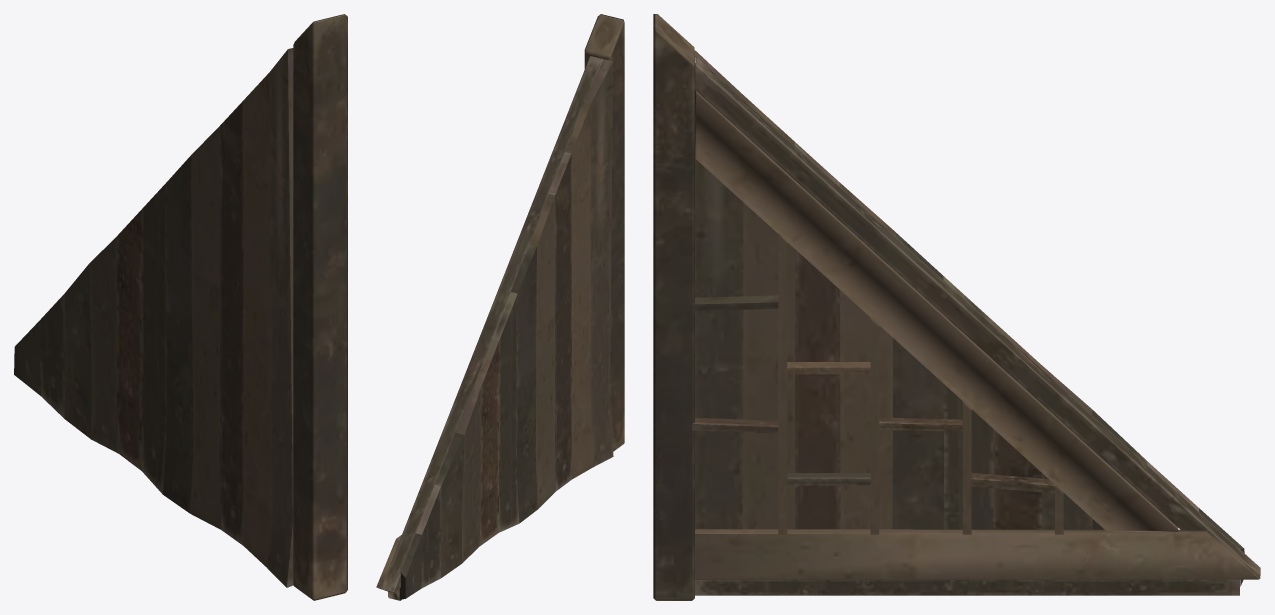
The model's file is wall.frontier.right.glb.
3 renders of one model, left to right at view 1: azimuth 30°, elevation 25°; view 2: azimuth 150°, elevation 25°; view 3: azimuth 270°, elevation 25°, orthographic. The views are drawn at different scales.
Parts seen in each view (by area): view 1: roof.wall.right_LOD0; view 2: roof.wall.right_LOD0; view 3: roof.wall.right_LOD0.
Part boxes in pixels (bbox=[...]): roof.wall.right_LOD0: bbox=[14, 14, 347, 600]; roof.wall.right_LOD0: bbox=[376, 14, 624, 600]; roof.wall.right_LOD0: bbox=[653, 14, 1260, 600].
Bounding box in the file's own units: 0.2264 × 3.02 × 2.9.
Materials: 1 (1 with a texture image).
